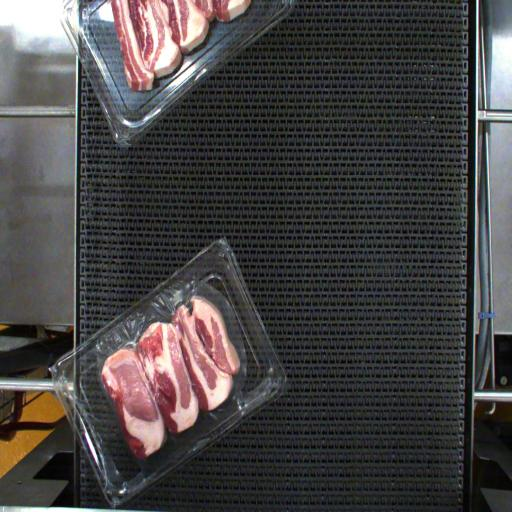unsealed: (91, 292, 250, 444)
